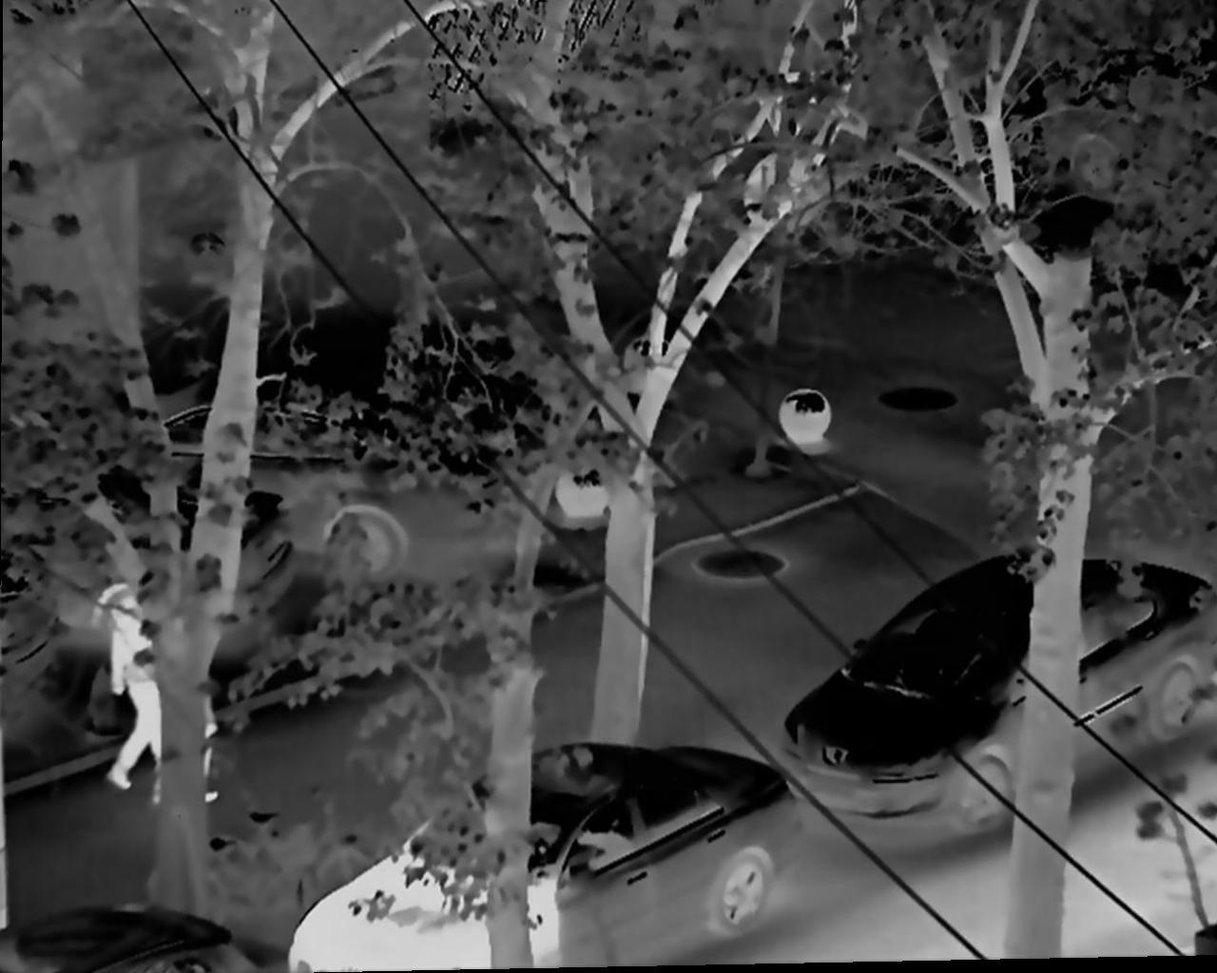person: (104, 587, 173, 805)
